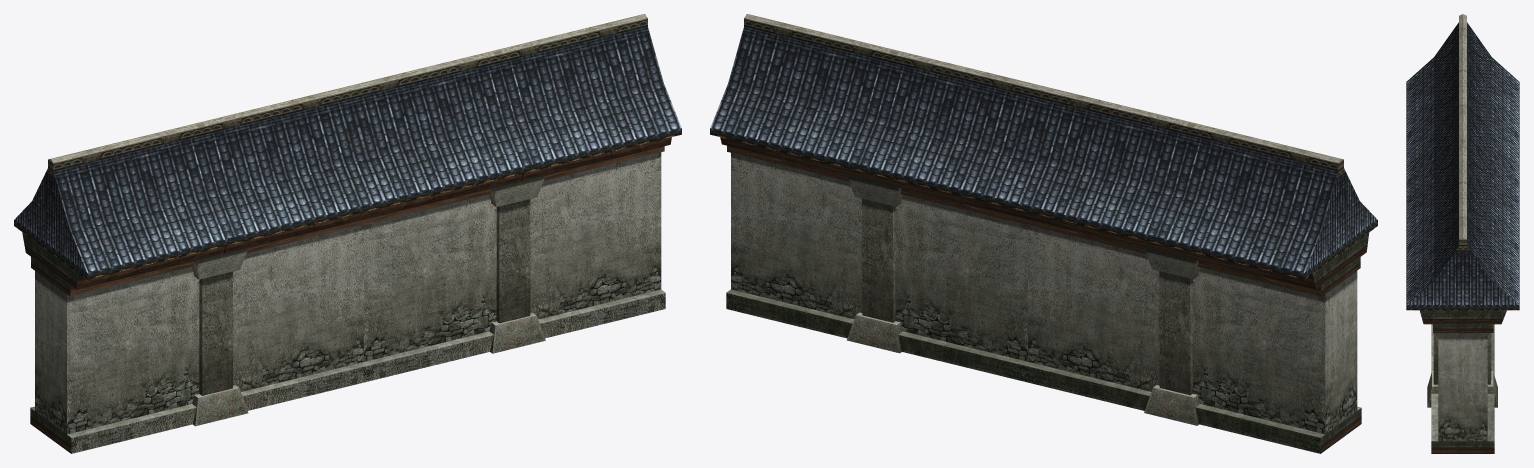
Rendered from a1-038-wall-lin2_duel.fbx.
The picture shows the model from 3 angles, left to right: view 1: azimuth 30°, elevation 25°; view 2: azimuth 150°, elevation 25°; view 3: azimuth 270°, elevation 25°; orthographic projection. The views are drawn at different scales.
Visible parts, largest first — view 1: a1-038-wall; view 2: a1-038-wall; view 3: a1-038-wall.
Part boxes in pixels (x1,y1,x2,y2): a1-038-wall: (14, 14, 681, 453); a1-038-wall: (710, 14, 1377, 453); a1-038-wall: (1406, 14, 1519, 453).
Bounding box in the file's own units: 10 × 4.5 × 2.13.
